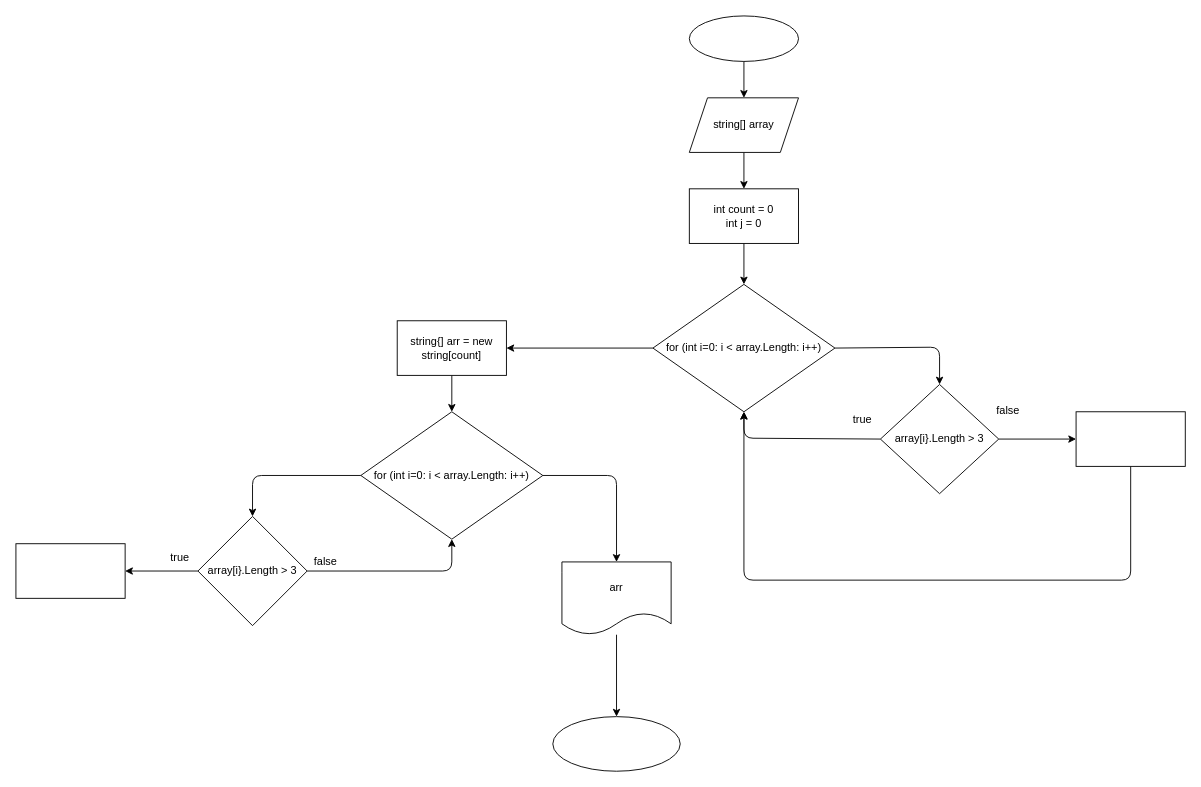
Image size: 1201x787. Some labels were removed from this diagram. Each missing label, with the box of its shape:
arr[j] = array[i] j ++: (15, 543, 125, 598)
count++: (1075, 411, 1185, 466)
end: (552, 716, 680, 771)
start: (688, 15, 799, 61)
